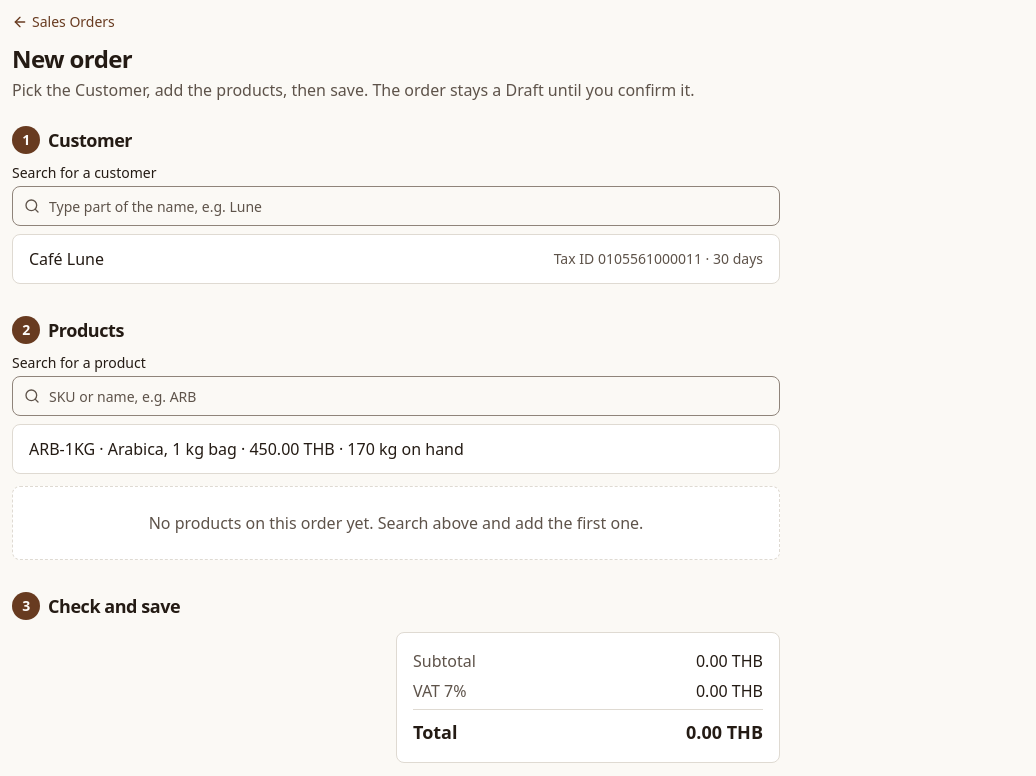
New order › warns, but does not block, when the quantity is more than On Hand
Click the button "ARB-1KG · Arabica, 1 kg bag · 450.00 THB · 170 kg on hand": (396, 449) [13,425,779,473]
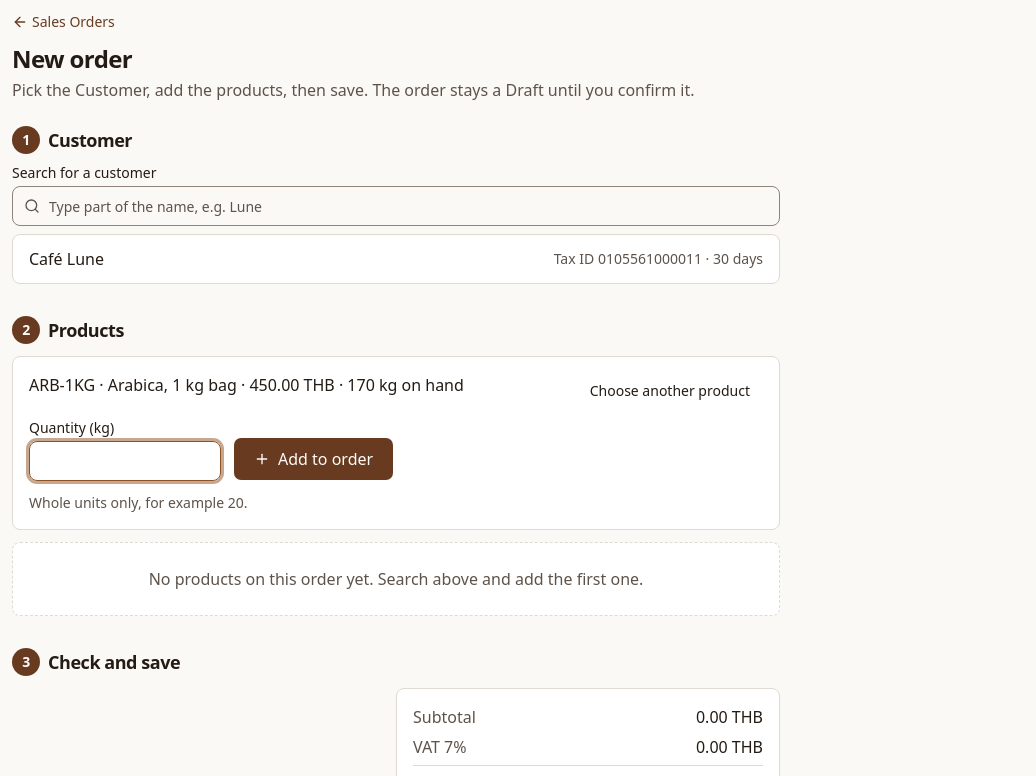
In the field labelled "Quantity (kg)": (125, 461) [29,441,221,481], type "200"
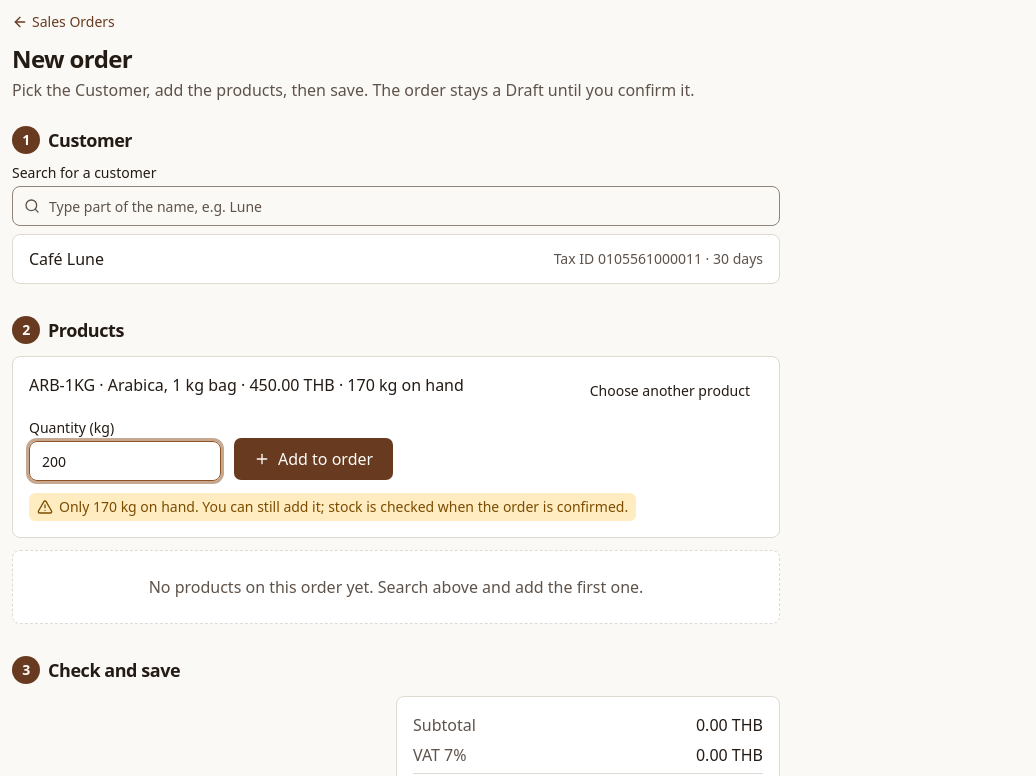
Result: the text "Only 170 kg on hand" is shown at [59,497,195,516]
Click the button "Add to order": (314, 459) [233,437,394,481]
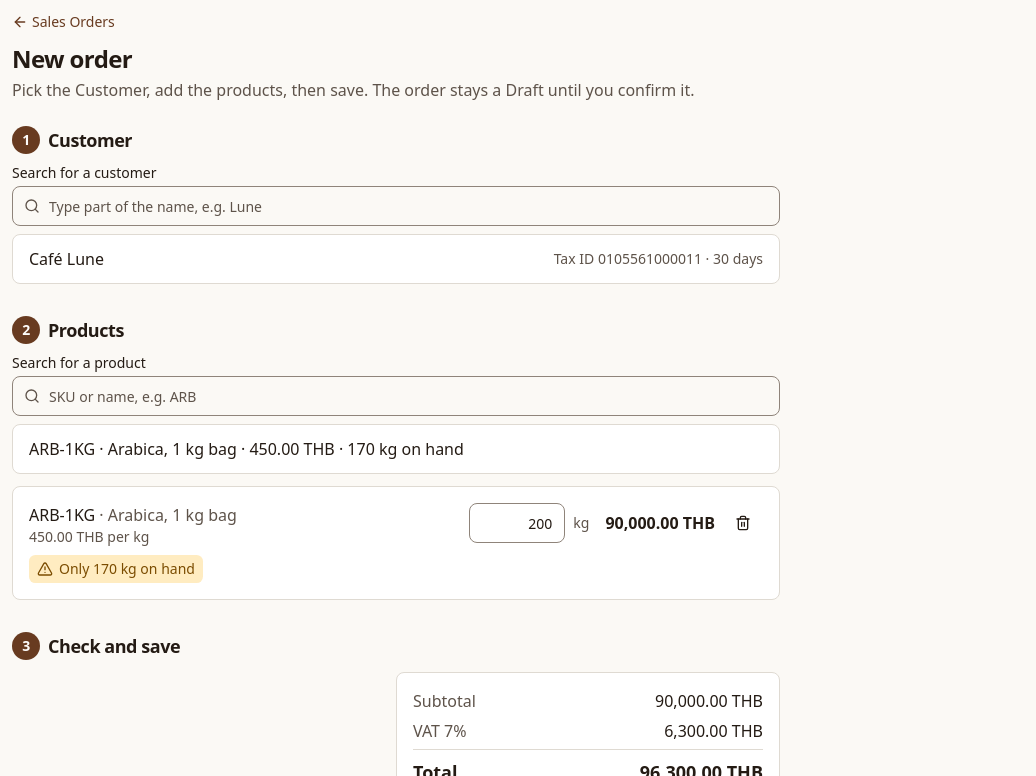
Result: the text "Only 170 kg on hand" is shown at [29,555,203,583]
Result: the text with test id "subtotal" reads "90,000.00 THB" at [655,690,763,712]
